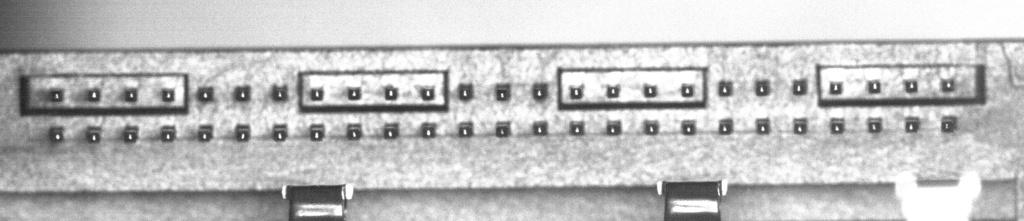pin_ok: (940, 115, 958, 132), (345, 122, 362, 140), (309, 123, 326, 141), (791, 78, 808, 95), (495, 120, 512, 137), (271, 84, 288, 101), (457, 83, 474, 100), (159, 125, 176, 142), (383, 122, 400, 139), (494, 84, 511, 101), (904, 116, 921, 133), (235, 123, 251, 141), (196, 86, 214, 102), (272, 123, 288, 141), (197, 124, 213, 142), (233, 85, 251, 101), (755, 117, 771, 134), (123, 125, 139, 142), (643, 119, 660, 135), (532, 83, 548, 100), (86, 126, 102, 143), (421, 121, 437, 138), (532, 120, 548, 136), (458, 121, 474, 137), (606, 119, 622, 135), (49, 126, 65, 142), (793, 117, 808, 134), (718, 80, 733, 97), (830, 117, 845, 134), (419, 85, 436, 100), (681, 119, 696, 135), (718, 118, 733, 134), (755, 80, 770, 96), (867, 117, 882, 133), (569, 120, 585, 135), (940, 77, 955, 92), (309, 86, 324, 101), (680, 83, 695, 98), (568, 85, 584, 99), (161, 88, 176, 102), (124, 87, 138, 102), (346, 86, 361, 100), (903, 78, 918, 92), (606, 84, 620, 98), (384, 86, 398, 100), (643, 83, 657, 97), (867, 79, 881, 93), (49, 89, 64, 102), (828, 81, 843, 94), (87, 88, 100, 101)
